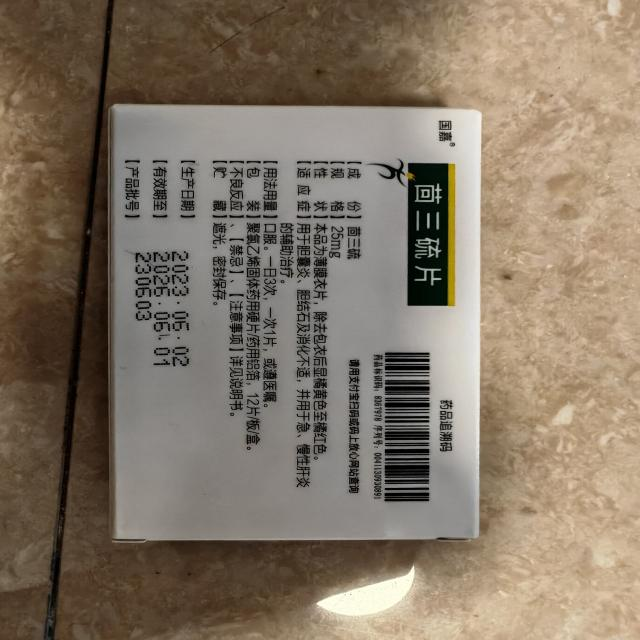box: (94, 88, 500, 554)
